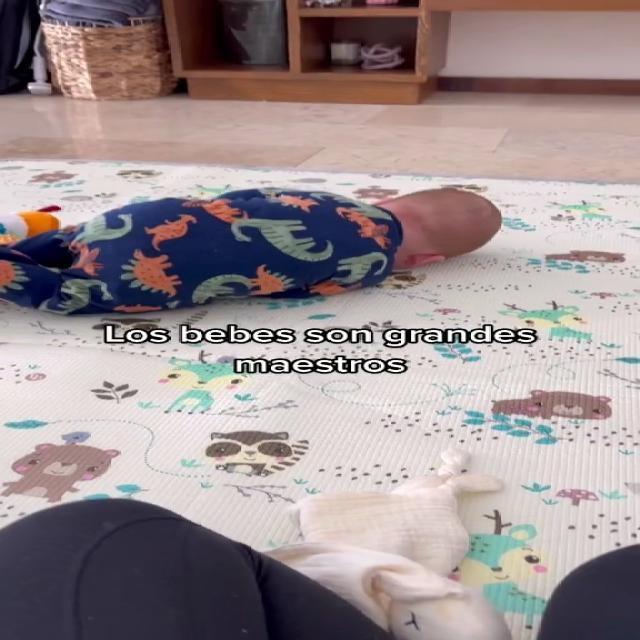baby: (0, 167, 511, 316)
